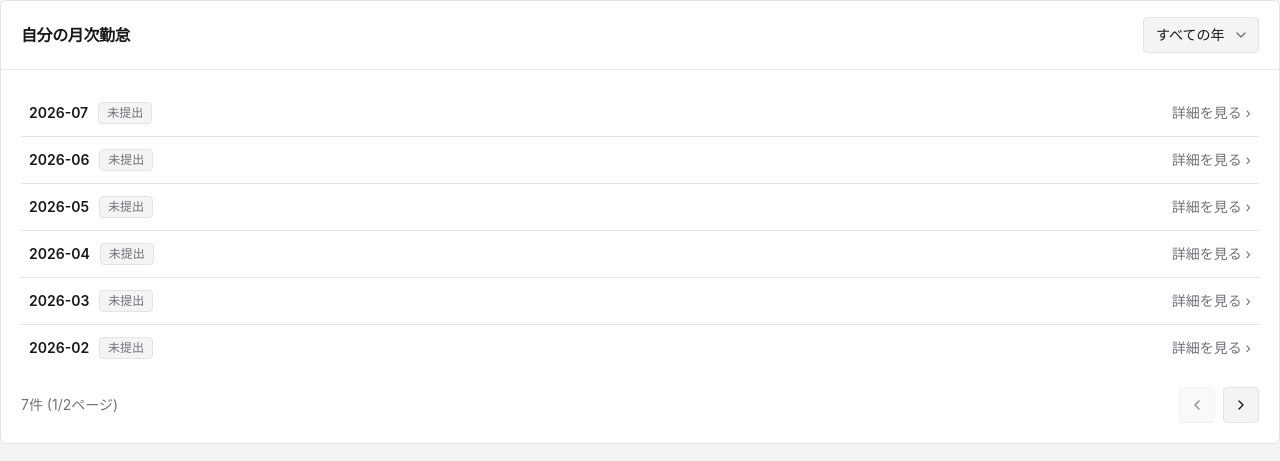
AttendanceMonthsPage › shows all employment months and paginates them even when no month records exist
The width and height of the screenshot is (1280, 461).
Expected: the dropdown named "表示する年" shows "すべての年", [1143,17,1259,53]
Expected: the text "2026-07" is shown, [29,103,88,123]
Click the button named "次のページ". click: coordinates (1241, 405)
box: [1223,387,1259,423]
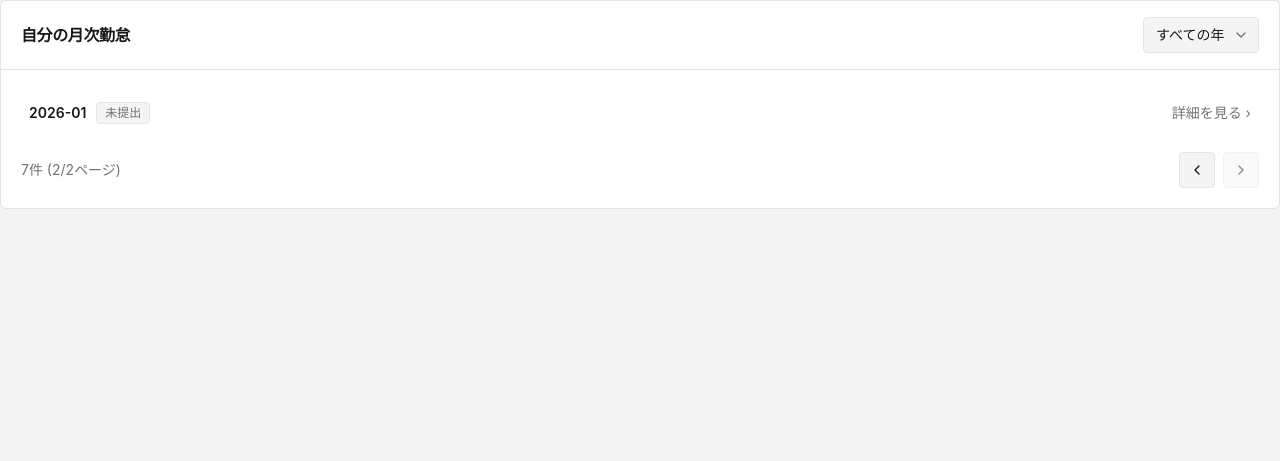
Expected: the text "2026-01" is shown, [29,103,86,123]
Expected: the text "7件 (2/2ページ)" is shown, [21,160,121,180]
Expected: the button named "次のページ" is disabled, [1223,152,1259,188]
